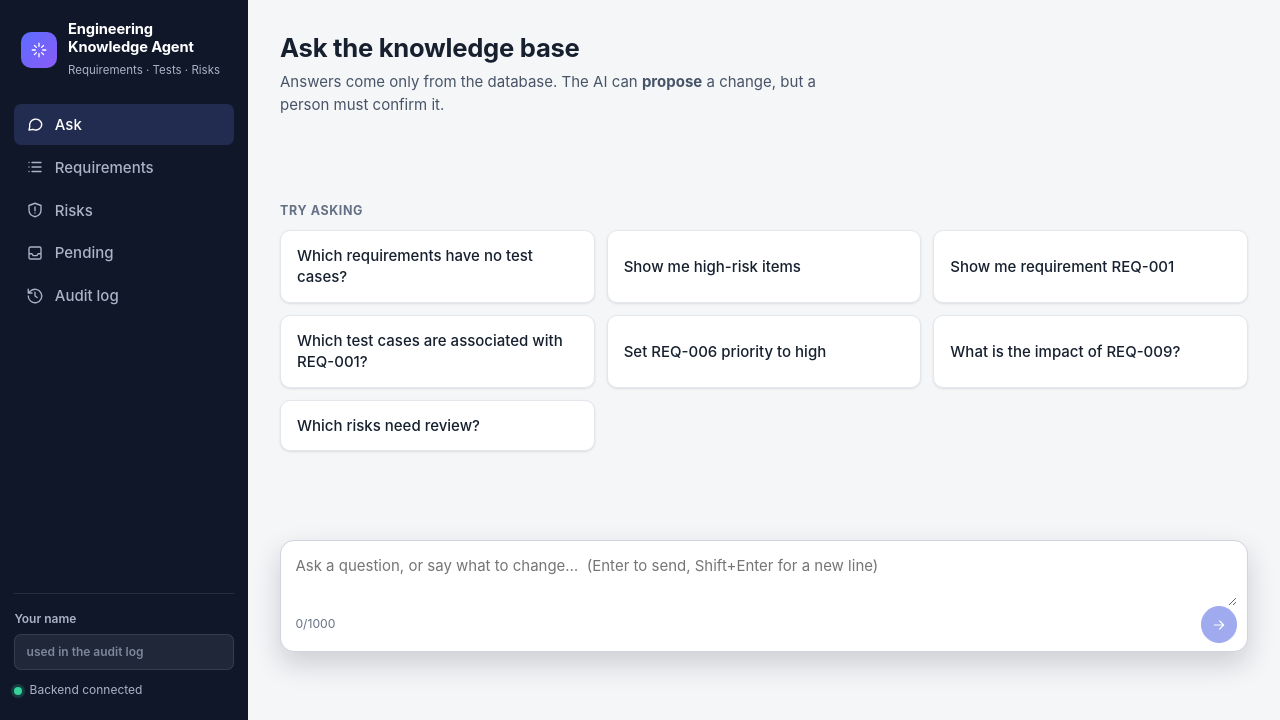
Test: chat › marks an answer that could not be checked as not verified
The width and height of the screenshot is (1280, 720).
Type "hello" into the text box named "Your message" at [766, 577], box [295,548,1237,606]
Then press Enter
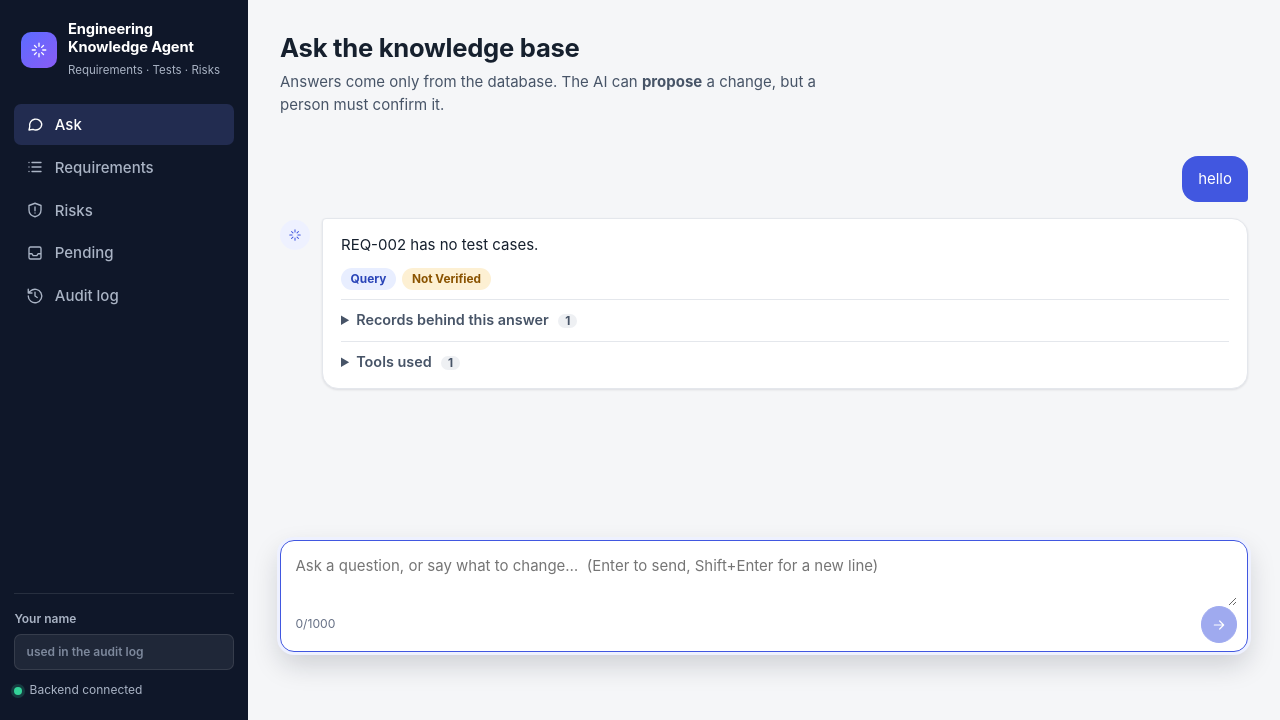
Now the text "Not verified" is shown, box [402,268,491,290]
